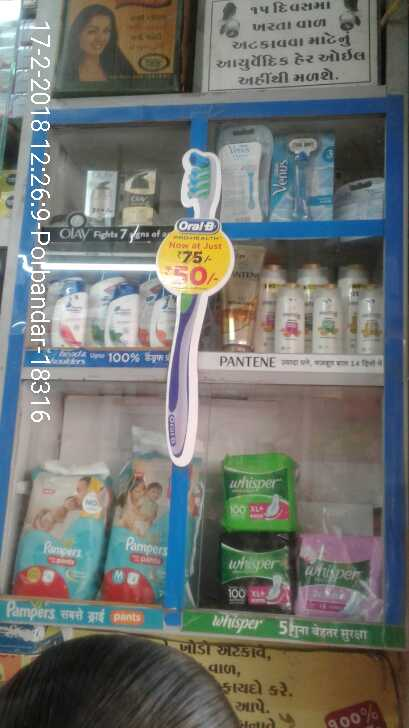venus: (217, 124, 274, 222), (276, 130, 335, 217), (335, 178, 385, 217)
